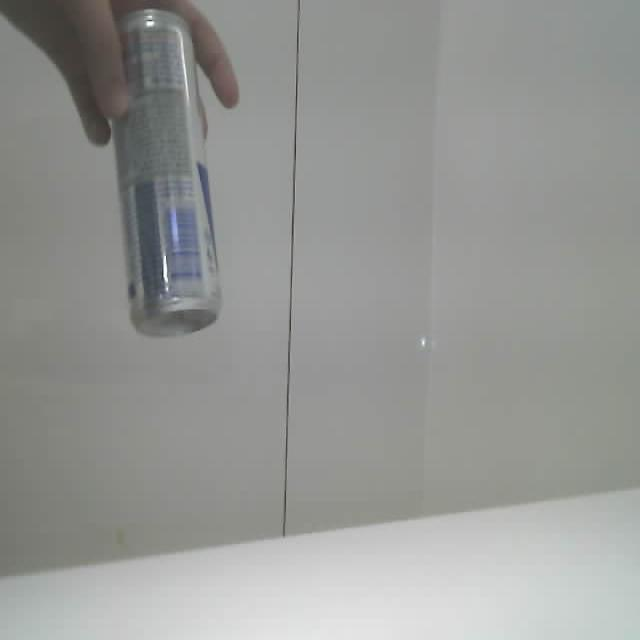redbull can: (113, 10, 220, 335)
